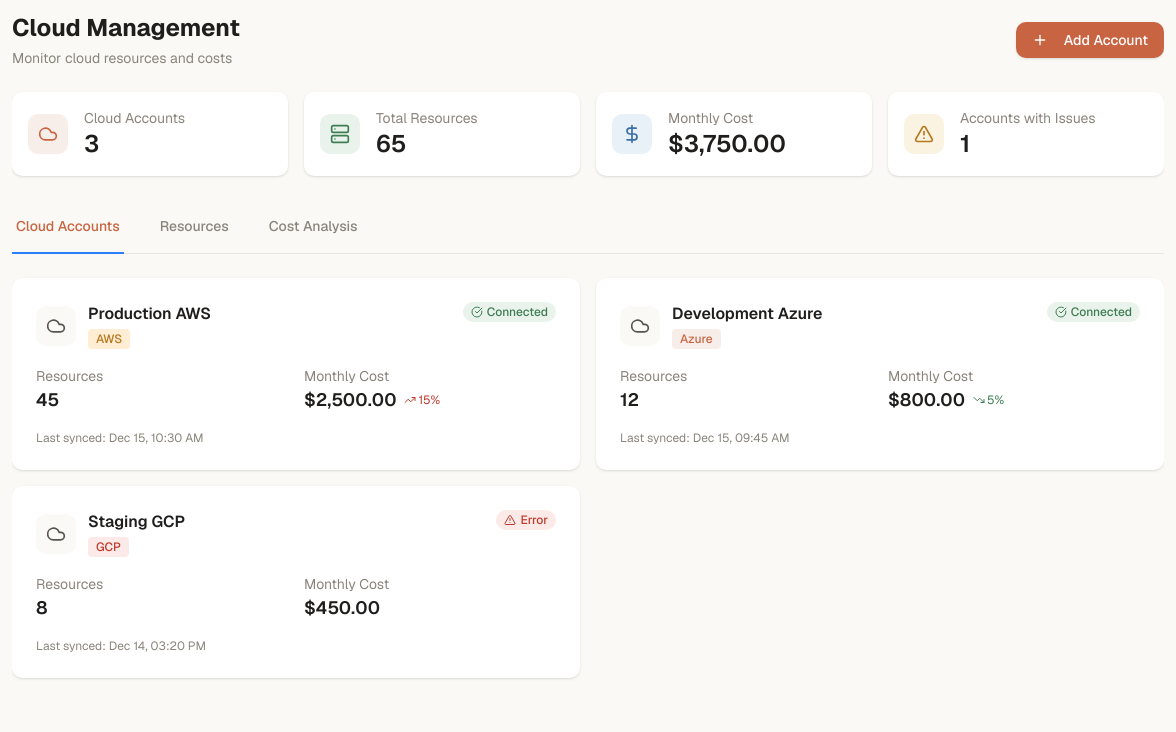
Test: CloudPage › Cost Analysis Tab › displays Cost Breakdown heading
The width and height of the screenshot is (1176, 732).
Click the button "Cost Analysis".
click(313, 227)  # box 265,200 -> 362,254
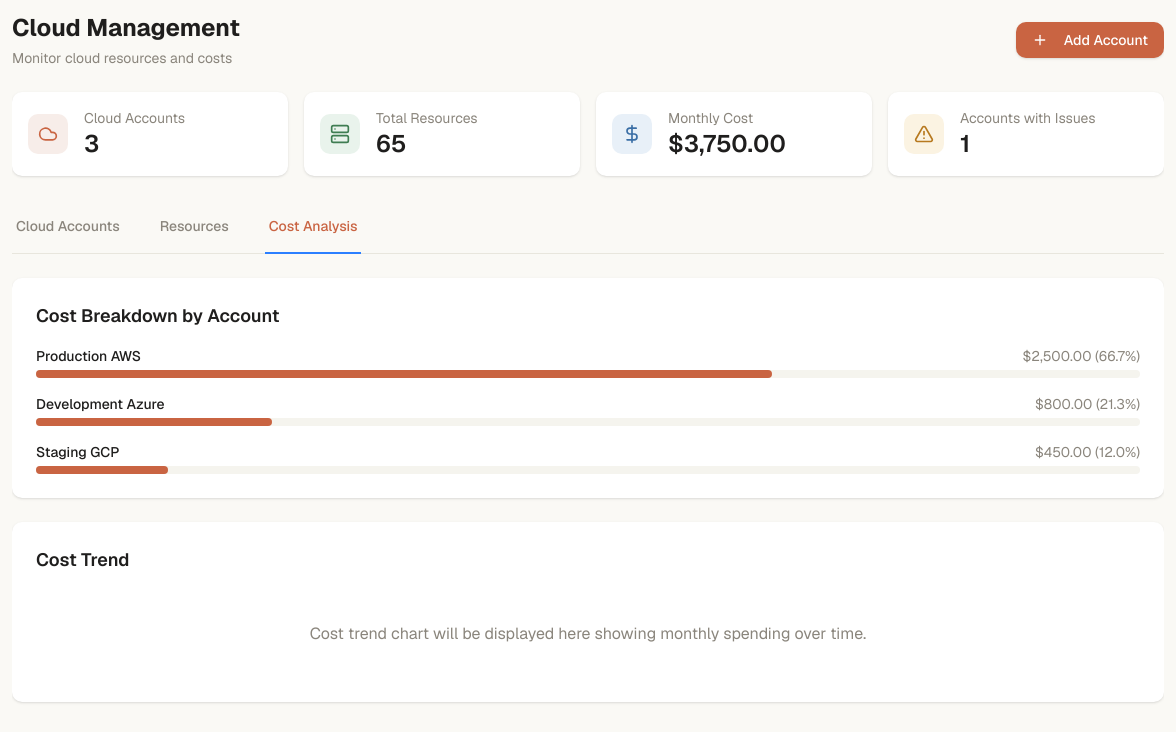
Expected: the heading "Cost Breakdown by Account" is shown, 36,304 -> 279,327
